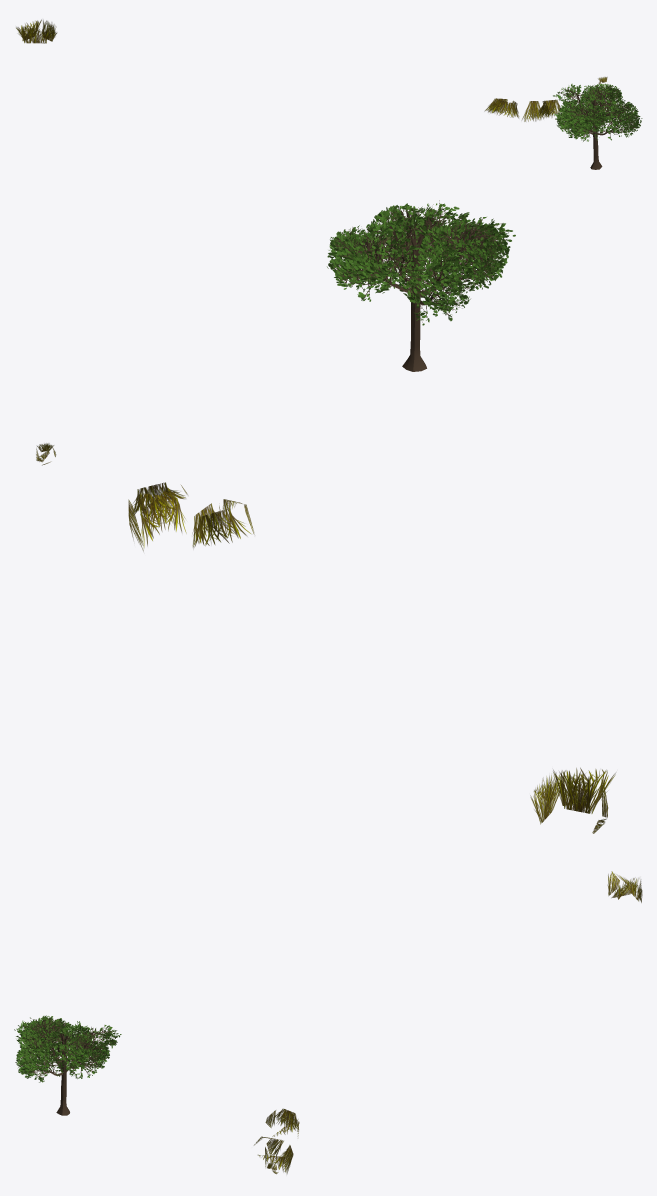
3 views of the same model, one above another, from view 1: azimuth 30°, elevation 25°; view 2: azimuth 150°, elevation 25°; view 3: azimuth 270°, elevation 25° (orthographic). The views are drawn at different scales.
Parts seen in each view (by area): view 1: Low Poly Stylized 2D Grass.1470; view 2: Low Poly Stylized 2D Grass.1470; view 3: Low Poly Stylized 2D Grass.1470.
Part boxes in pixels (x1=…): Low Poly Stylized 2D Grass.1470: x1=16, y1=19, x2=642, y2=169; Low Poly Stylized 2D Grass.1470: x1=36, y1=200, x2=615, y2=833; Low Poly Stylized 2D Grass.1470: x1=14, y1=871, x2=642, y2=1174.
Bounding box in the file's own units: 22.59 × 5.33 × 24.09.
3 materials, 2 textured.
